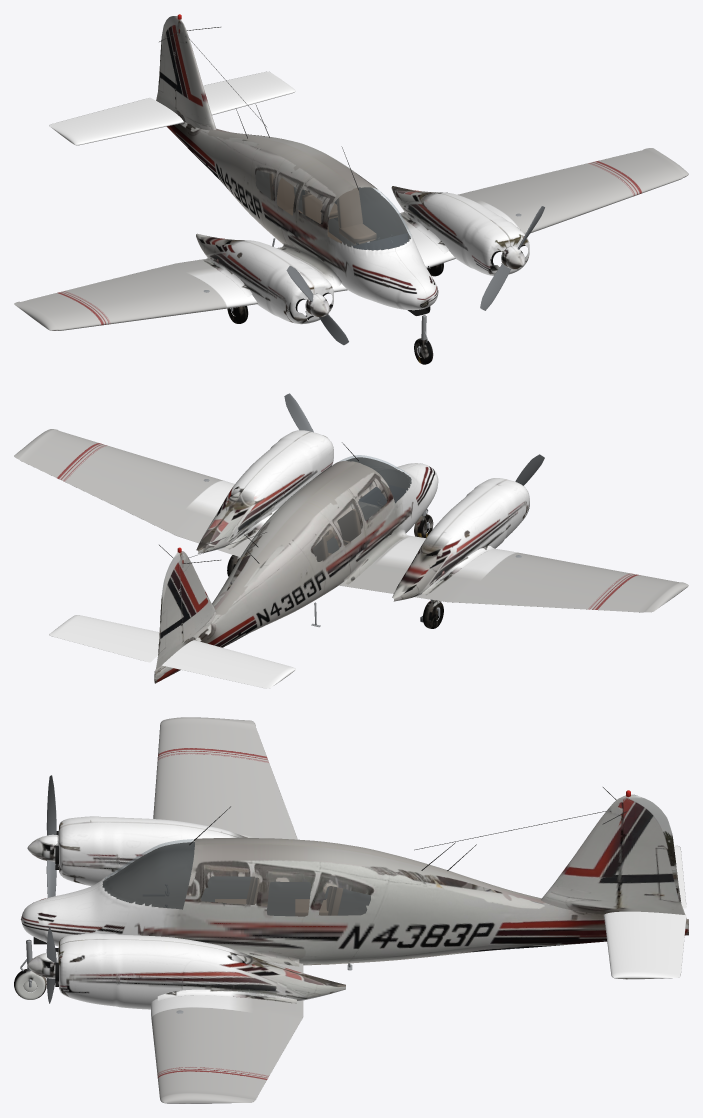
3 views of the same model, one above another, from view 1: azimuth 30°, elevation 25°; view 2: azimuth 150°, elevation 25°; view 3: azimuth 270°, elevation 25° (orthographic). The views are drawn at different scales.
Parts seen in each view (by area): view 1: fuselage, wing_L, wing_R, nacelle_L, nacelle_R, fuselage_glass, fin, stab_R, stab_L, cabin_shell, seat0_back, wing_fillet_R (+3 smaller); view 2: fuselage, wing_R, wing_L, nacelle_R, nacelle_L, fin, stab_R, stab_L, fuselage_glass, cabin_shell, wing_fillet_R, seat1_back (+3 smaller); view 3: fuselage, nacelle_L, wing_L, wing_R, fin, fuselage_glass, cabin_shell, nacelle_R, stab_L, nac_fillet_L_out, nose_wheel_tire, wing_fillet_L (+1 smaller).
Boxes of the visible parts, <box> form: fuselage: <box>166,121,438,310</box>; wing_L: <box>367,148,688,268</box>; wing_R: <box>14,247,347,330</box>; nacelle_L: <box>391,186,529,275</box>; nacelle_R: <box>196,233,333,324</box>; fuselage_glass: <box>256,170,411,249</box>; fin: <box>156,16,216,130</box>; stab_R: <box>49,97,183,145</box>; stab_L: <box>203,71,295,115</box>; cabin_shell: <box>255,170,410,241</box>; seat0_back: <box>336,188,362,228</box>; wing_fillet_R: <box>280,243,341,286</box>; fuselage: <box>154,461,438,683</box>; wing_R: <box>339,535,688,612</box>; wing_L: <box>14,429,259,557</box>; nacelle_R: <box>392,478,529,601</box>; nacelle_L: <box>196,430,333,553</box>; fin: <box>155,551,216,669</box>; stab_R: <box>162,640,295,688</box>; stab_L: <box>49,615,159,662</box>; fuselage_glass: <box>313,455,411,561</box>; cabin_shell: <box>346,457,411,508</box>; wing_fillet_R: <box>344,529,408,584</box>; seat1_back: <box>337,509,361,541</box>; fuselage: <box>21,838,688,965</box>; nacelle_L: <box>57,933,345,1009</box>; wing_L: <box>151,962,303,1103</box>; wing_R: <box>153,717,297,839</box>; fin: <box>541,794,686,918</box>; fuselage_glass: <box>103,839,370,916</box>; cabin_shell: <box>102,842,370,916</box>; nacelle_R: <box>57,816,247,886</box>; stab_L: <box>604,911,686,979</box>; nac_fillet_L_out: <box>157,989,296,1003</box>; nose_wheel_tire: <box>14,969,46,999</box>; wing_fillet_L: <box>215,944,299,966</box>.
Size of the model in its own units: 11.28 by 2.87 by 8.41.
Materials: 18 (2 with a texture image).
